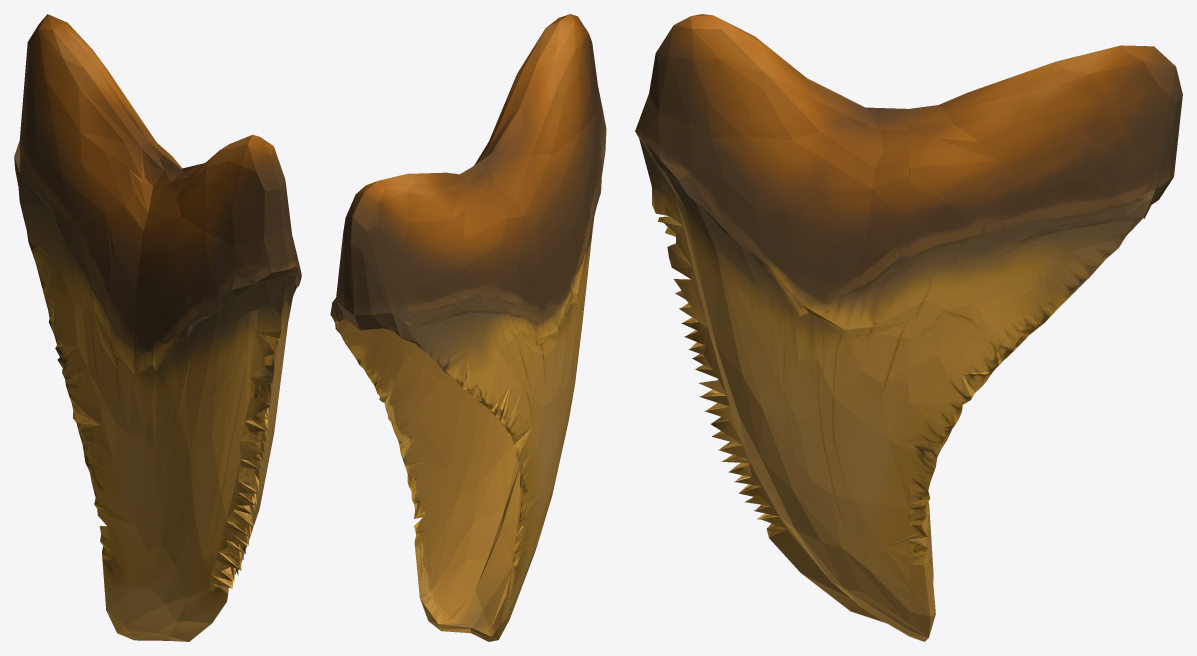
The model's file is Diente.fbx.
3 views of the same model, side by side, from view 1: azimuth 30°, elevation 25°; view 2: azimuth 150°, elevation 25°; view 3: azimuth 270°, elevation 25° (orthographic). The views are drawn at different scales.
Visible parts, largest first — view 1: tripo_node_06539d05-c8b0-46d2-a9b9-c155ed5d53b6; view 2: tripo_node_06539d05-c8b0-46d2-a9b9-c155ed5d53b6; view 3: tripo_node_06539d05-c8b0-46d2-a9b9-c155ed5d53b6.
Part boxes in pixels (x1,y1,x2,y2): tripo_node_06539d05-c8b0-46d2-a9b9-c155ed5d53b6: (14,14,301,641); tripo_node_06539d05-c8b0-46d2-a9b9-c155ed5d53b6: (330,14,606,641); tripo_node_06539d05-c8b0-46d2-a9b9-c155ed5d53b6: (635,14,1182,641).
Size of the model in its own units: 24.9 by 99.93 by 80.83.
Materials: 1 (1 with a texture image).
